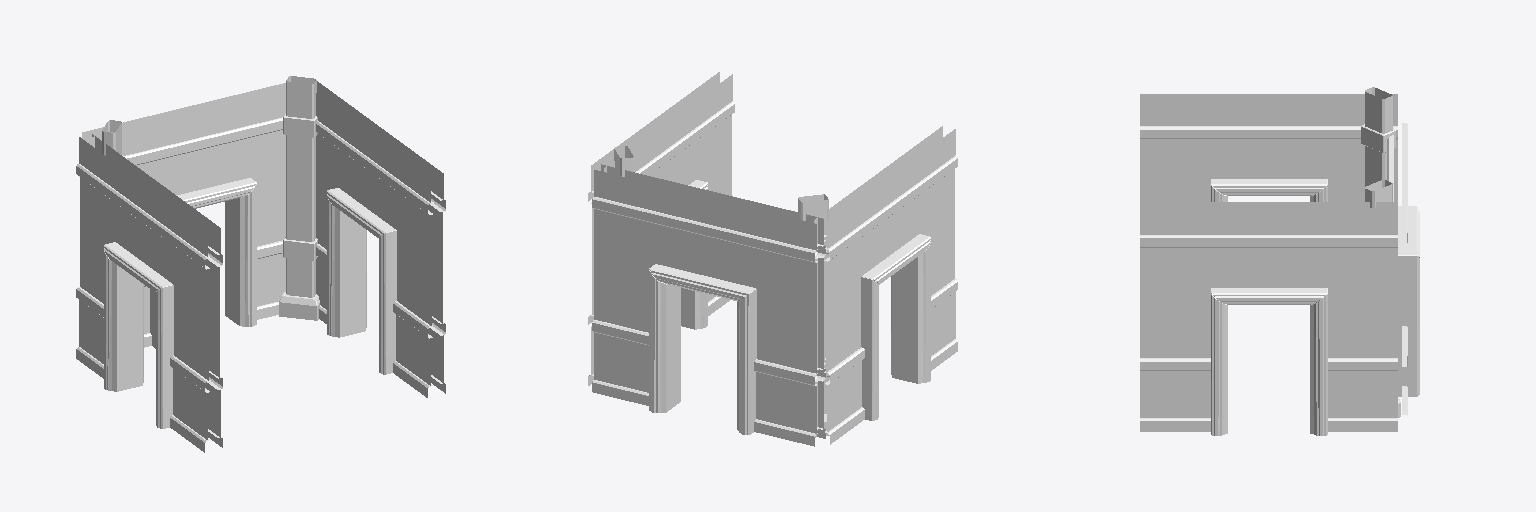
File: Prefab_05.obj
3 views of the same model, side by side, from view 1: azimuth 30°, elevation 25°; view 2: azimuth 150°, elevation 25°; view 3: azimuth 270°, elevation 25° (orthographic).
Parts seen in each view (by area): view 1: Object007, Object002, Object004, Object003, Object006, Box002, Object005, Box003; view 2: Object004, Object007, Object002, Object005, Object006, Object003, Box003; view 3: Object002, Object007, Object003, Object005, Box003, Object006, Object004, Box002.
Boxes of the visible parts, <box> form: Object007: <box>76,134,222,452</box>; Object002: <box>316,81,445,397</box>; Object004: <box>82,83,285,347</box>; Object003: <box>326,188,396,374</box>; Object006: <box>104,242,173,428</box>; Box002: <box>279,76,319,320</box>; Object005: <box>150,178,256,348</box>; Box003: <box>102,120,124,156</box>; Object004: <box>592,164,825,446</box>; Object007: <box>814,126,957,444</box>; Object002: <box>588,72,734,385</box>; Object005: <box>649,264,756,434</box>; Object006: <box>861,234,930,420</box>; Object003: <box>681,180,707,329</box>; Box003: <box>798,194,829,436</box>; Object002: <box>1140,202,1397,431</box>; Object007: <box>1140,94,1397,201</box>; Object003: <box>1211,288,1327,435</box>; Object005: <box>1398,206,1419,396</box>; Box003: <box>1361,87,1395,186</box>; Object006: <box>1211,179,1327,201</box>; Object004: <box>1387,123,1407,415</box>; Box002: <box>1365,180,1400,417</box>.
Bounding box in the file's own units: 468 × 400 × 434.